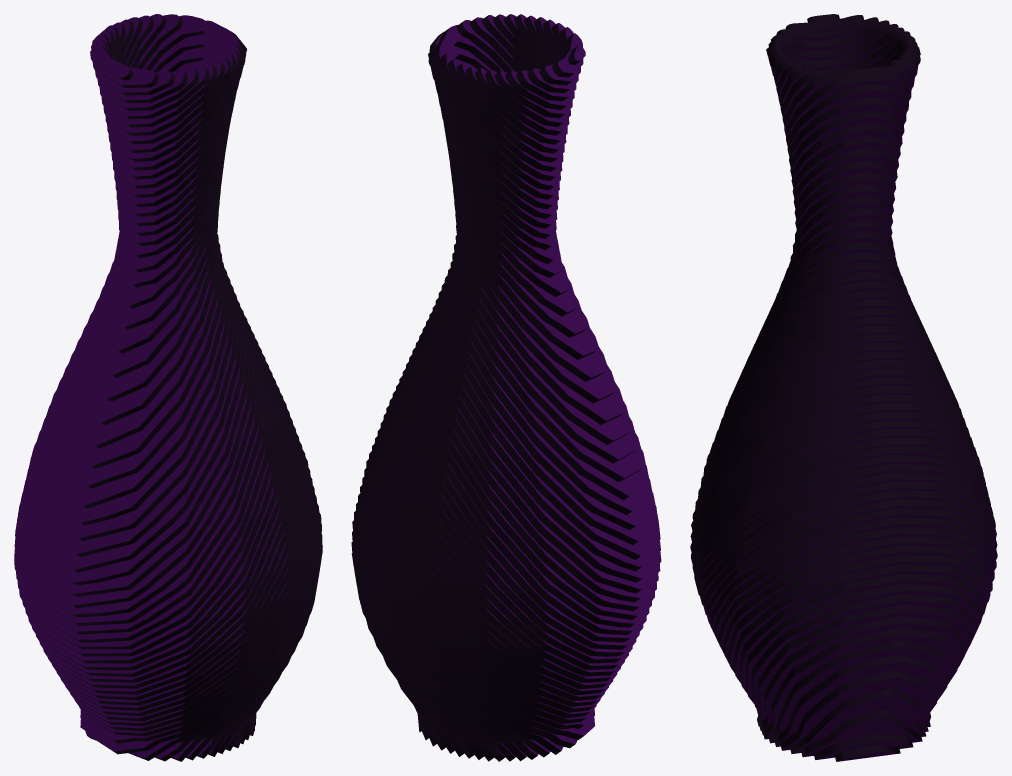
The model's file is sci-fi-vase.glb.
3 renders of one model, left to right at view 1: azimuth 30°, elevation 25°; view 2: azimuth 150°, elevation 25°; view 3: azimuth 270°, elevation 25°, orthographic.
Parts seen in each view (by area): view 1: Object_3, Object_2; view 2: Object_2, Object_3; view 3: Object_2, Object_3.
Boxes of the visible parts, x1,y1,x2,y2 form: Object_3: (14,14,288,758); Object_2: (35,15,322,761); Object_2: (351,15,642,761); Object_3: (433,14,661,757); Object_2: (690,14,997,761); Object_3: (694,23,997,761).
Size of the model in its own units: 180 by 435 by 178.
